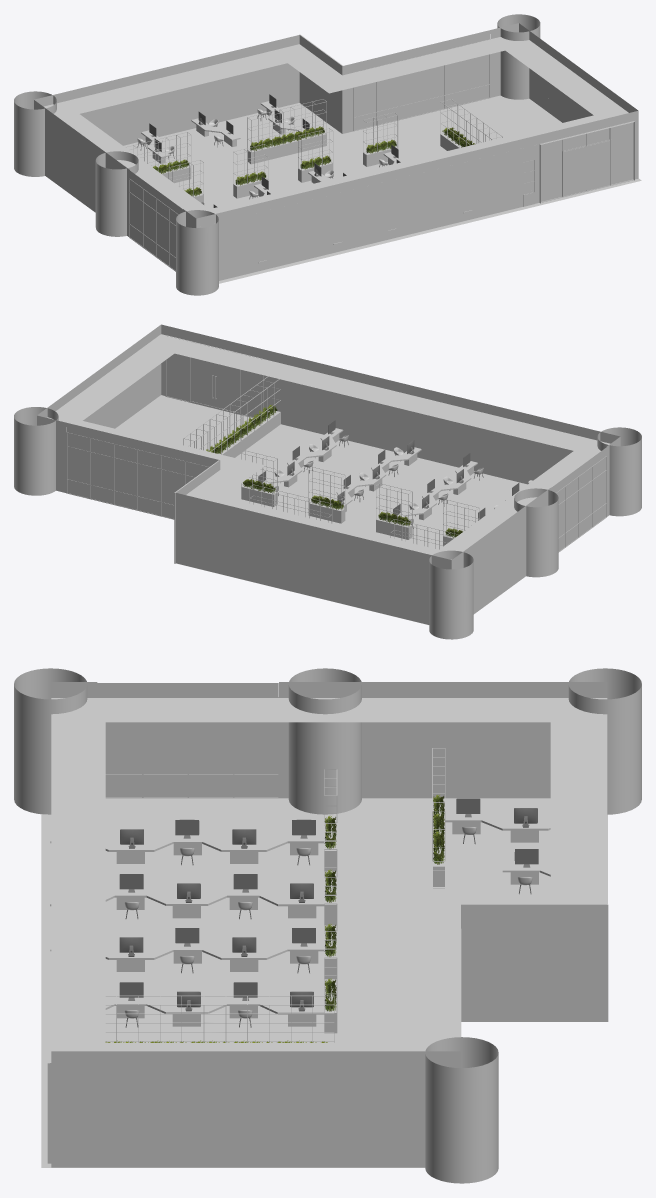
The model's file is cau01_lecture.fbx.
The picture shows the model from 3 angles, top to bottom: view 1: azimuth 30°, elevation 25°; view 2: azimuth 150°, elevation 25°; view 3: azimuth 270°, elevation 25°; orthographic projection. The views are drawn at different scales.
Parts seen in each view (by area): view 1: Object2585, Object2498, Object2586, Cylinder4382, Object2497, Object2584, Box6225, Box6421, Box5941, Box6183, Box6569, Box6239 (+10 smaller); view 2: Object2585, Object2498, Object2586, Cylinder4382, Object2497, Object2584, Box6225, Box6183, Box6421, Box5871, Box5941, Box6571 (+9 smaller); view 3: Object2498, Object2586, Object2585, Cylinder4382, Box6328, Object2497, Object2584, Box6183, Box6192, mac001, Object2583, Box6571 (+3 smaller).
Boxes of the visible parts, <box> form: Object2585: <box>34,23,638,266</box>; Object2498: <box>123,95,641,283</box>; Object2586: <box>44,37,628,213</box>; Cylinder4382: <box>14,14,540,295</box>; Object2497: <box>130,33,489,270</box>; Object2584: <box>45,83,638,280</box>; Box6225: <box>160,133,534,206</box>; Box6421: <box>563,140,609,195</box>; Box5941: <box>45,81,638,268</box>; Box6183: <box>141,101,472,263</box>; Box6569: <box>247,99,326,152</box>; Box6239: <box>353,39,490,131</box>; Object2585: <box>37,324,620,609</box>; Object2498: <box>115,395,527,625</box>; Object2586: <box>47,334,610,559</box>; Cylinder4382: <box>14,407,641,639</box>; Object2497: <box>67,427,606,551</box>; Object2584: <box>56,382,609,624</box>; Box6225: <box>218,411,454,546</box>; Box6183: <box>262,428,520,525</box>; Box6421: <box>190,357,238,412</box>; Box5871: <box>166,353,262,417</box>; Box5941: <box>56,380,609,611</box>; Box6571: <box>183,376,280,454</box>; Object2498: <box>41,798,607,1167</box>; Object2586: <box>51,698,607,1051</box>; Object2585: <box>51,682,607,1142</box>; Cylinder4382: <box>14,668,641,1183</box>; Box6328: <box>461,904,608,1021</box>; Object2497: <box>97,683,278,797</box>; Object2584: <box>51,777,550,1167</box>; Box6183: <box>50,813,550,1014</box>; Box6192: <box>116,822,538,1026</box>; mac001: <box>119,798,538,1011</box>; Object2583: <box>120,799,538,997</box>; Box6571: <box>105,995,334,1042</box>.
Bounding box in the file's own units: 103139 × 14073 × 68471.
Materials: 3 (1 with a texture image).
